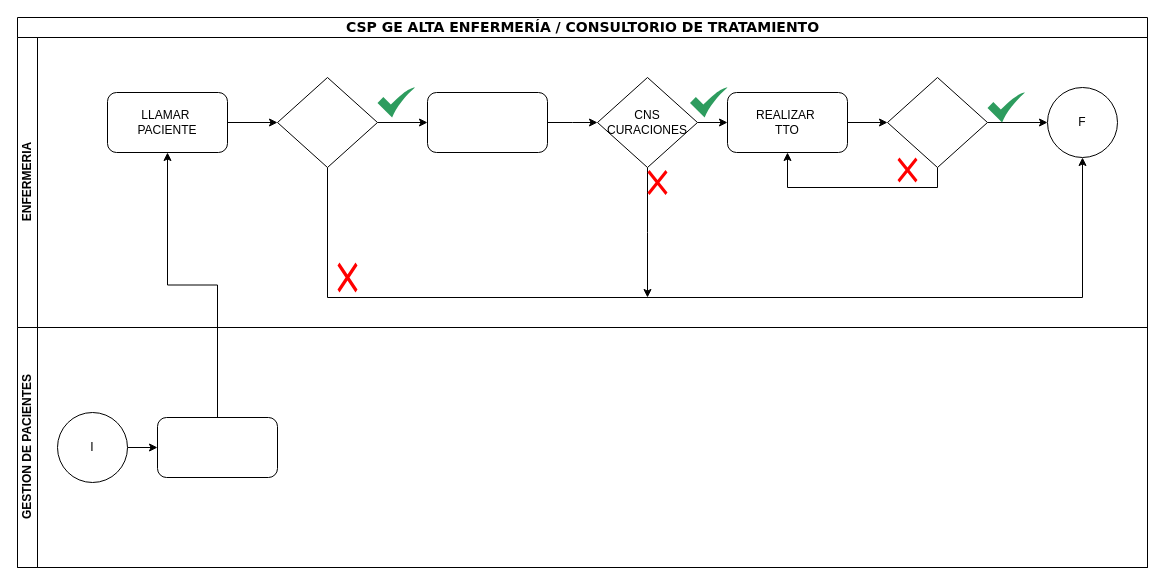
Image size: 1165x585. Some labels were removed from this diagram. Here are the shapes that lost their labels. From the top down, the box of each, then its label:
(276, 76, 378, 168): ESTA PRESENTE
(426, 92, 548, 152): REALIZAR TRIAJE
(886, 76, 988, 168): FIN TTO
(156, 416, 278, 478): RECEPCIONAR PACIENTES
